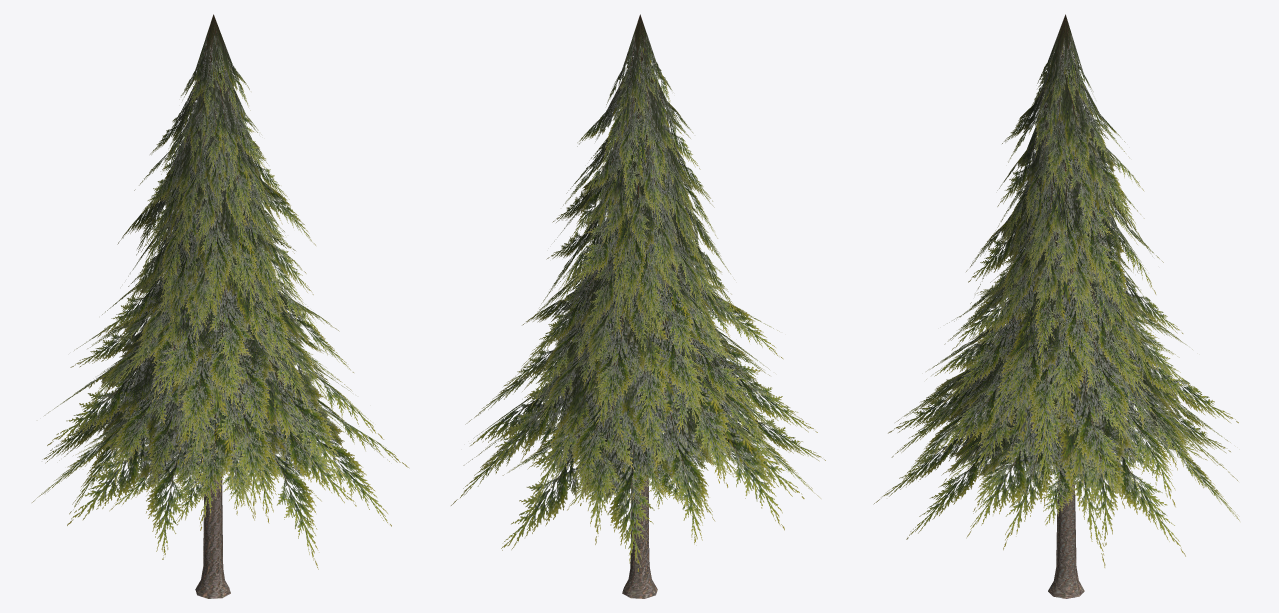
Rendered from pine_tree.dae.
3 views of the same model, side by side, from view 1: azimuth 30°, elevation 25°; view 2: azimuth 150°, elevation 25°; view 3: azimuth 270°, elevation 25° (orthographic).
Parts seen in each view (by area): view 1: Branch, Bark; view 2: Branch, Bark; view 3: Branch, Bark.
Boxes of the visible parts, x1,y1,x2,y2 form: Branch: (32,14,409,569); Bark: (195,47,230,598); Branch: (451,14,825,571); Bark: (622,52,657,598); Branch: (873,14,1239,567); Bark: (1048,47,1084,598).
Size of the model in its own units: 3.17 by 3.17 by 5.08.
2 materials, 2 textured.
